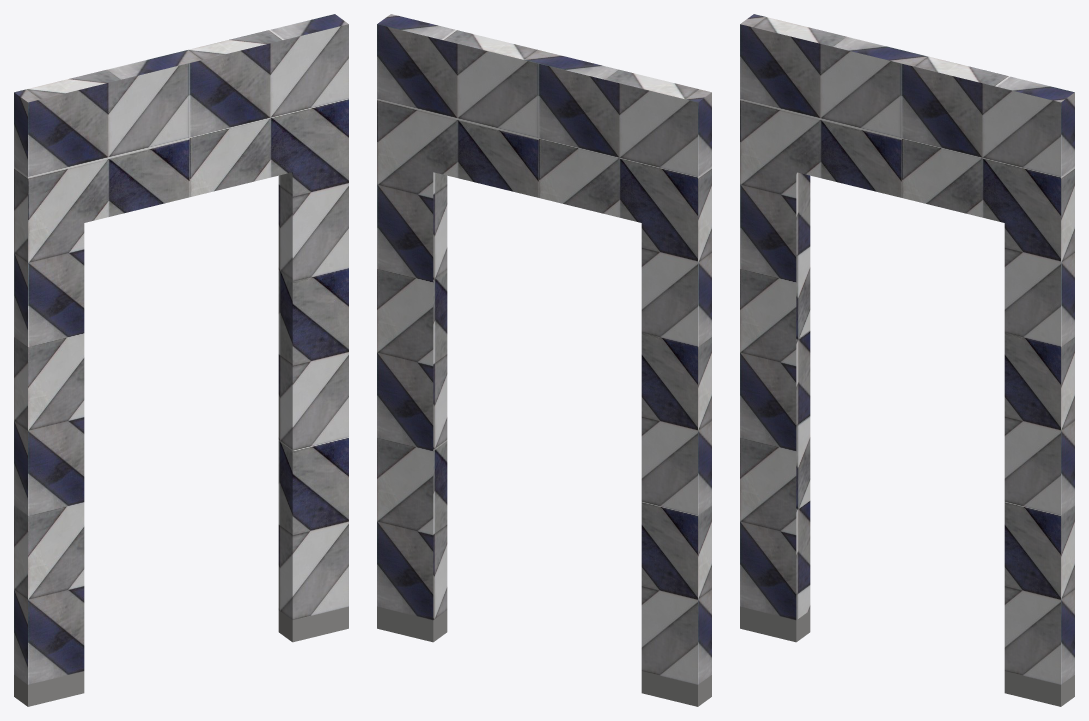
File: ARC0210009.fbx
3 renders of one model, left to right at view 1: azimuth 30°, elevation 25°; view 2: azimuth 150°, elevation 25°; view 3: azimuth 330°, elevation 25°, orthographic.
Parts seen in each view (by area): view 1: smARC0210009; view 2: smARC0210009; view 3: smARC0210009.
Part boxes in pixels (x1,y1,x2,y2): smARC0210009: (14,14,348,706); smARC0210009: (377,14,711,706); smARC0210009: (740,14,1074,706).
Bounding box in the file's own units: 182 × 328 × 13.67.
1 material, 1 textured.
